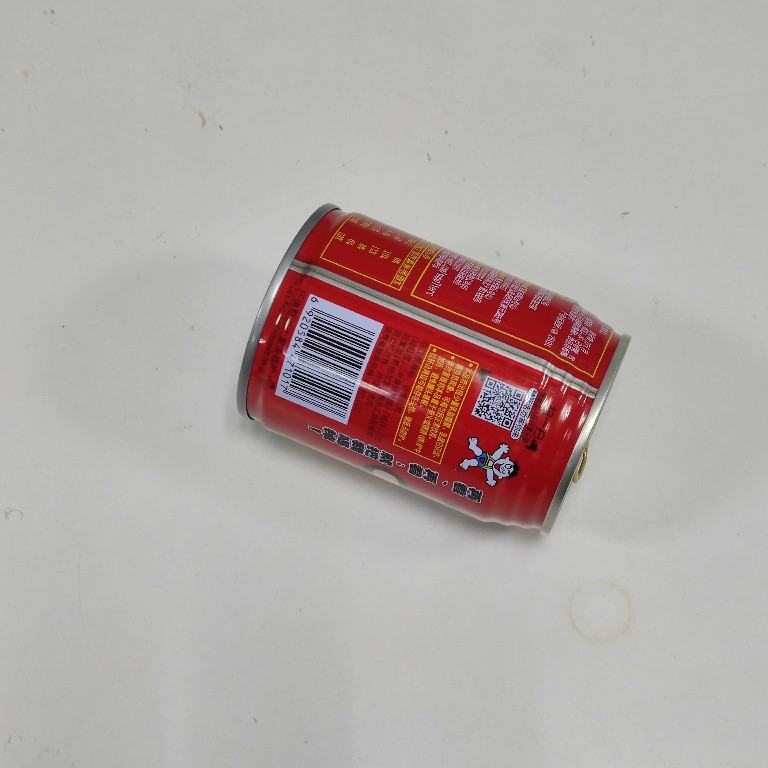can: (234, 202, 635, 540)
